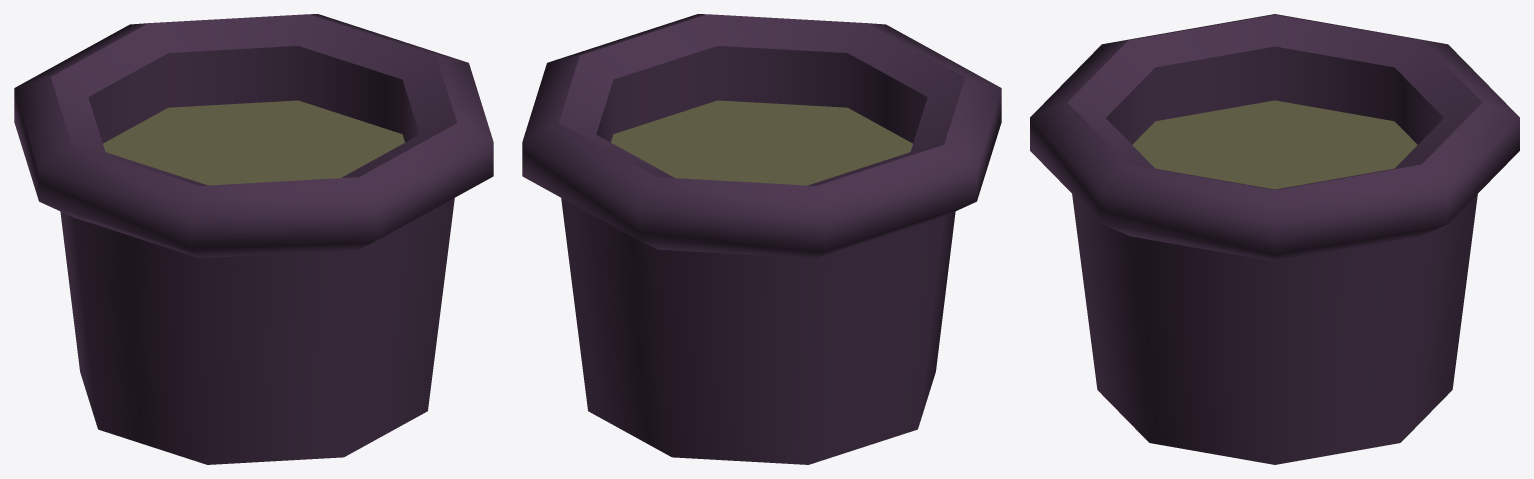
File: SM_FlowerPot.fbx
3 renders of one model, left to right at view 1: azimuth 30°, elevation 25°; view 2: azimuth 150°, elevation 25°; view 3: azimuth 270°, elevation 25°, orthographic.
Parts seen in each view (by area): view 1: SM_FlowerPot_A5; view 2: SM_FlowerPot_A5; view 3: SM_FlowerPot_A5.
Boxes of the visible parts, x1,y1,x2,y2 form: SM_FlowerPot_A5: (14,14,493,464); SM_FlowerPot_A5: (522,14,1001,464); SM_FlowerPot_A5: (1030,14,1519,464).
Bounding box in the file's own units: 0.4259 × 0.2758 × 0.4259.
